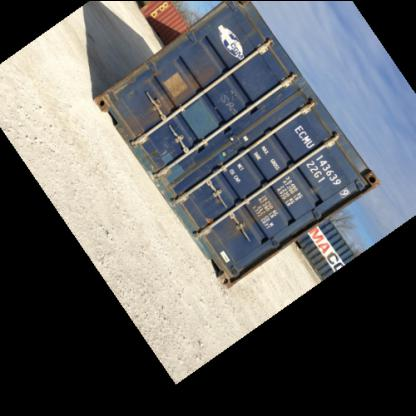Damage: (141, 132, 205, 186), (224, 202, 292, 232), (139, 84, 189, 122), (221, 91, 245, 119)
